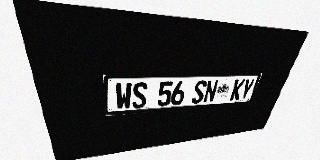5: (157, 81, 173, 106)
6: (170, 81, 187, 105)
K: (229, 79, 246, 101)
N: (202, 80, 219, 103)
S: (132, 82, 148, 108), (191, 80, 207, 104)
W: (115, 82, 132, 110)
Y: (239, 79, 255, 100)
